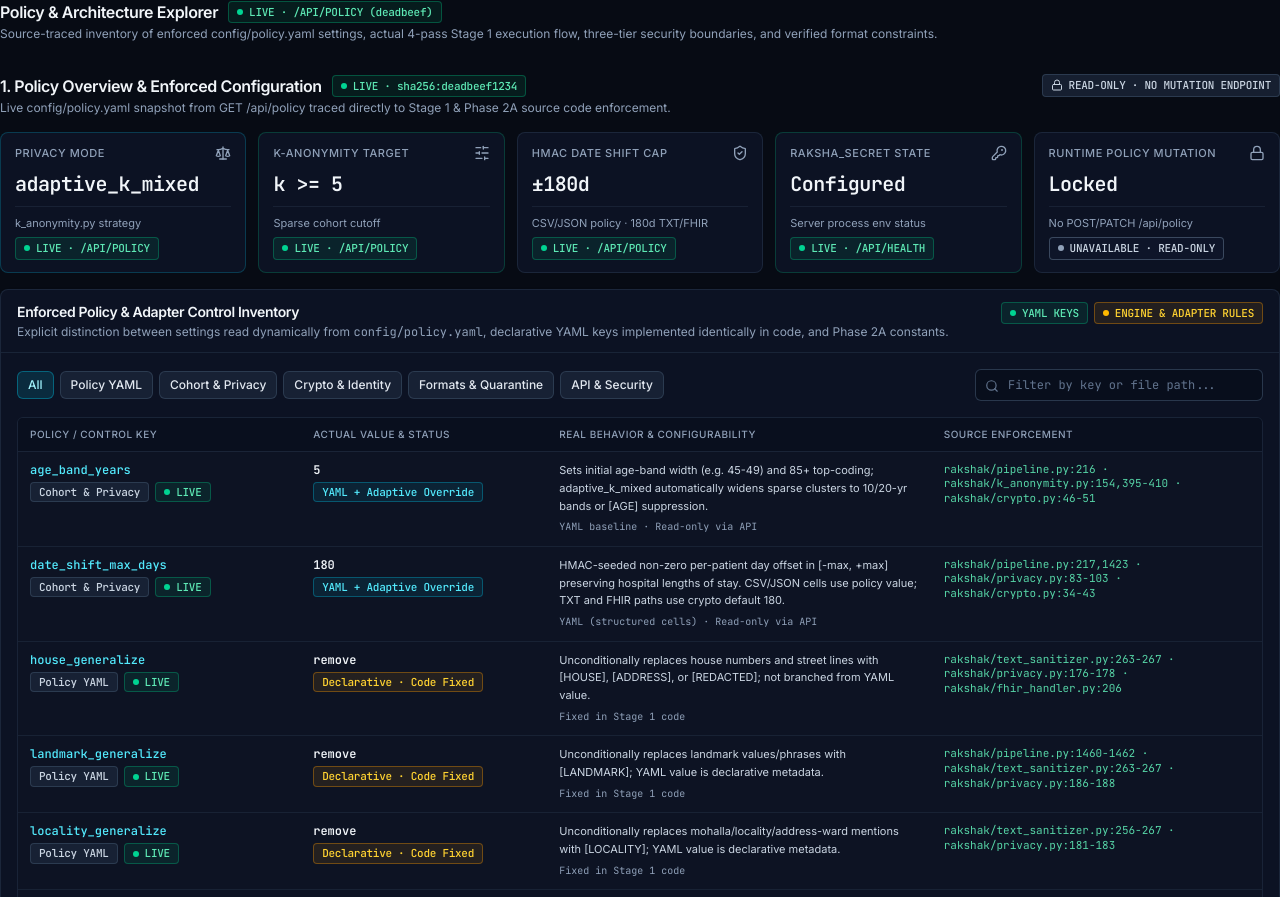
Test: PoliciesArchitecturePage live policy, pipeline & security verification › renders live policy values read-only, filters policies & security bounds, and shows exact 4-pass architecture
Expected: the text "LIVE · /API/POLICY (deadbeef)" is shown, x1=228 y1=1 x2=442 y2=23
Expected: the text "k >= 5" is shown, x1=273 y1=170 x2=342 y2=196
Note: Filter policy rows via category and search input
Click the button "Policy YAML": {"x": 106, "y": 384} x1=60 y1=370 x2=153 y2=398
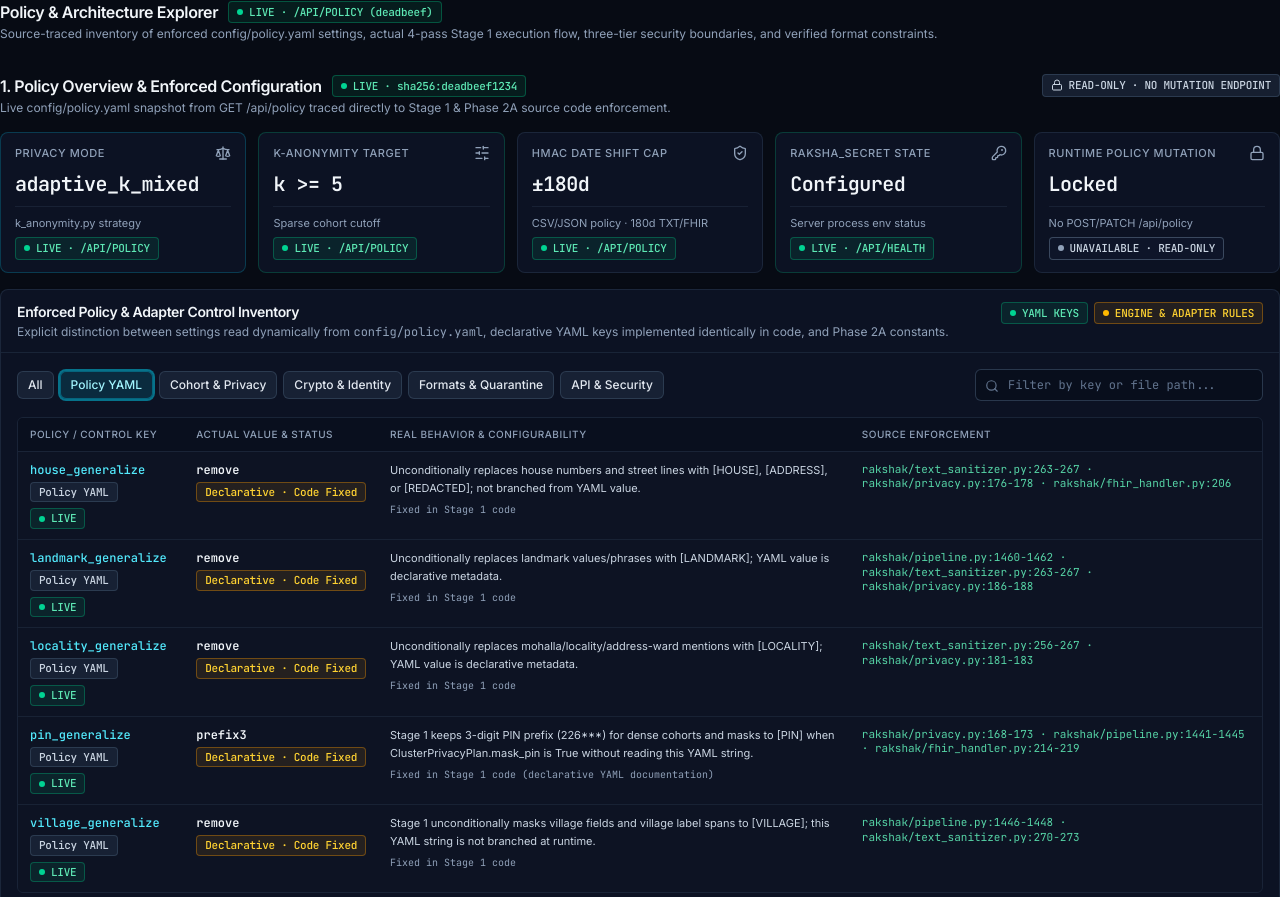
Expected: the text "village_generalize" is shown, x1=30 y1=815 x2=172 y2=831
Expected: the text "min_group_size" is not shown
Click the button "All": {"x": 35, "y": 384} x1=17 y1=370 x2=54 y2=398
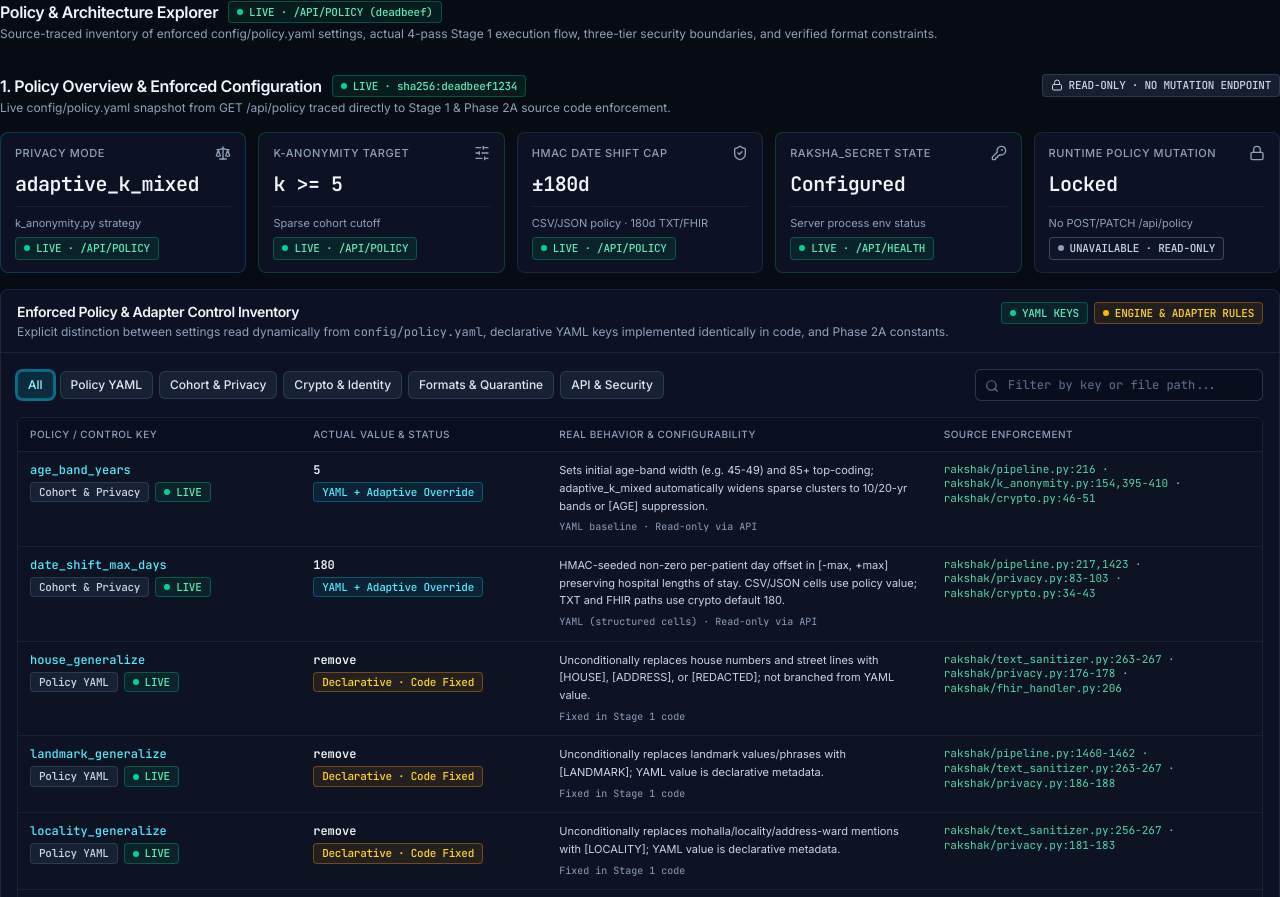
In the field named "Filter policy inventory": {"x": 1119, "y": 384} x1=975 y1=368 x2=1263 y2=400, type "fhir_r4"
(page scrolled)
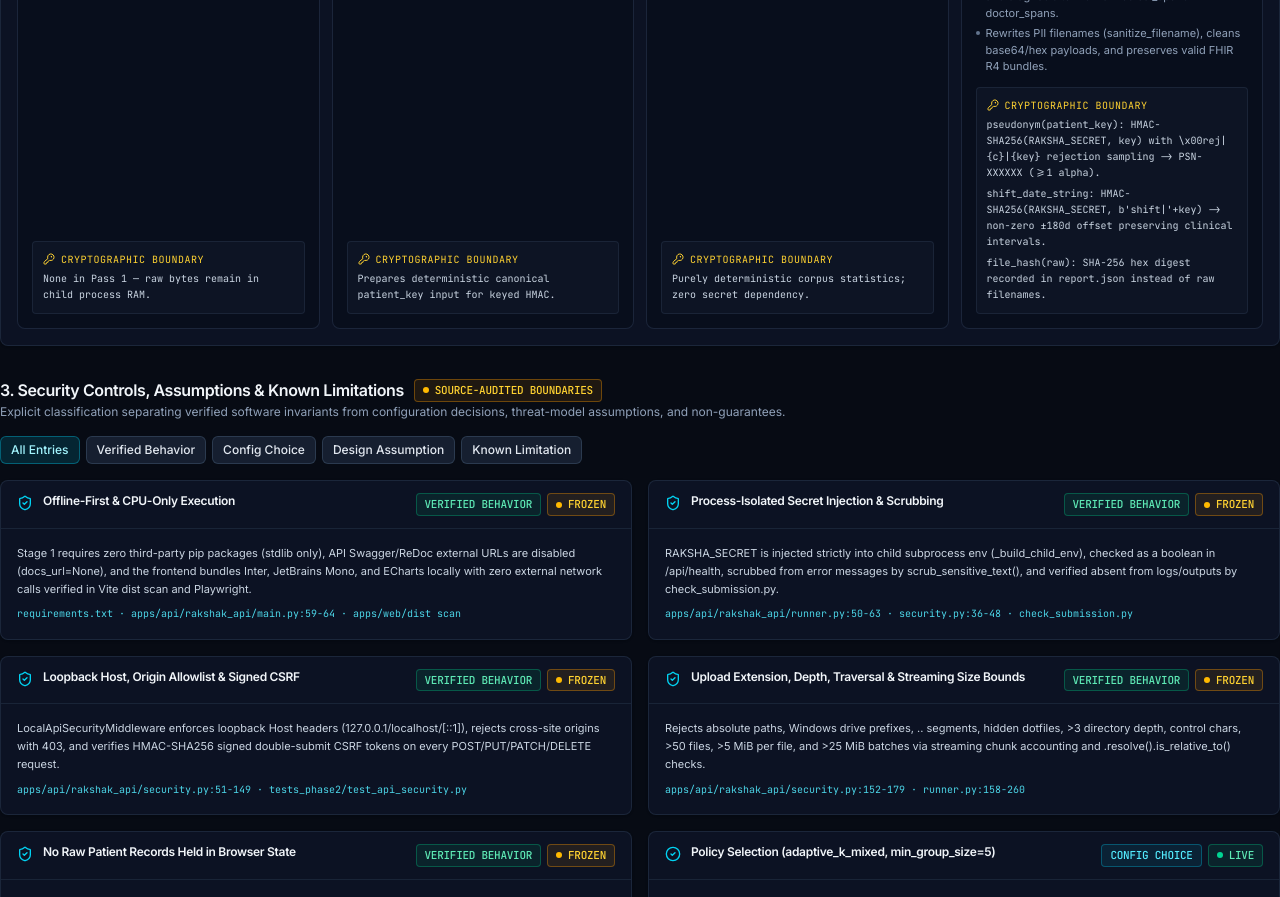
Note: Security filter & limitation verification
Click the button "Known Limitation": {"x": 522, "y": 450} x1=461 y1=436 x2=582 y2=464
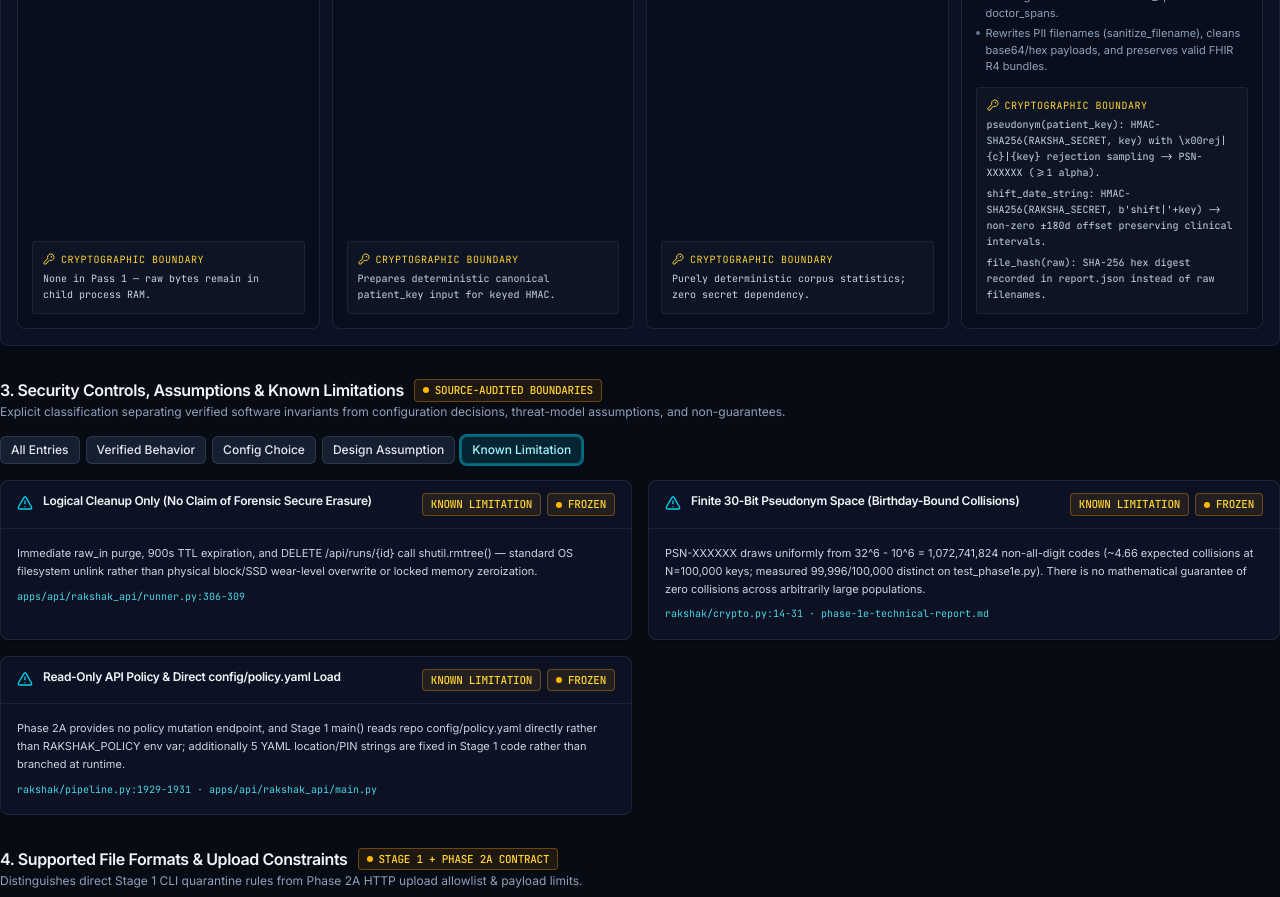
Expected: the heading "Logical Cleanup Only (No Claim of Forensic Secure Erasure)" is shown, x1=43 y1=493 x2=372 y2=510
Now the heading "Loopback Host, Origin Allowlist" is gone
